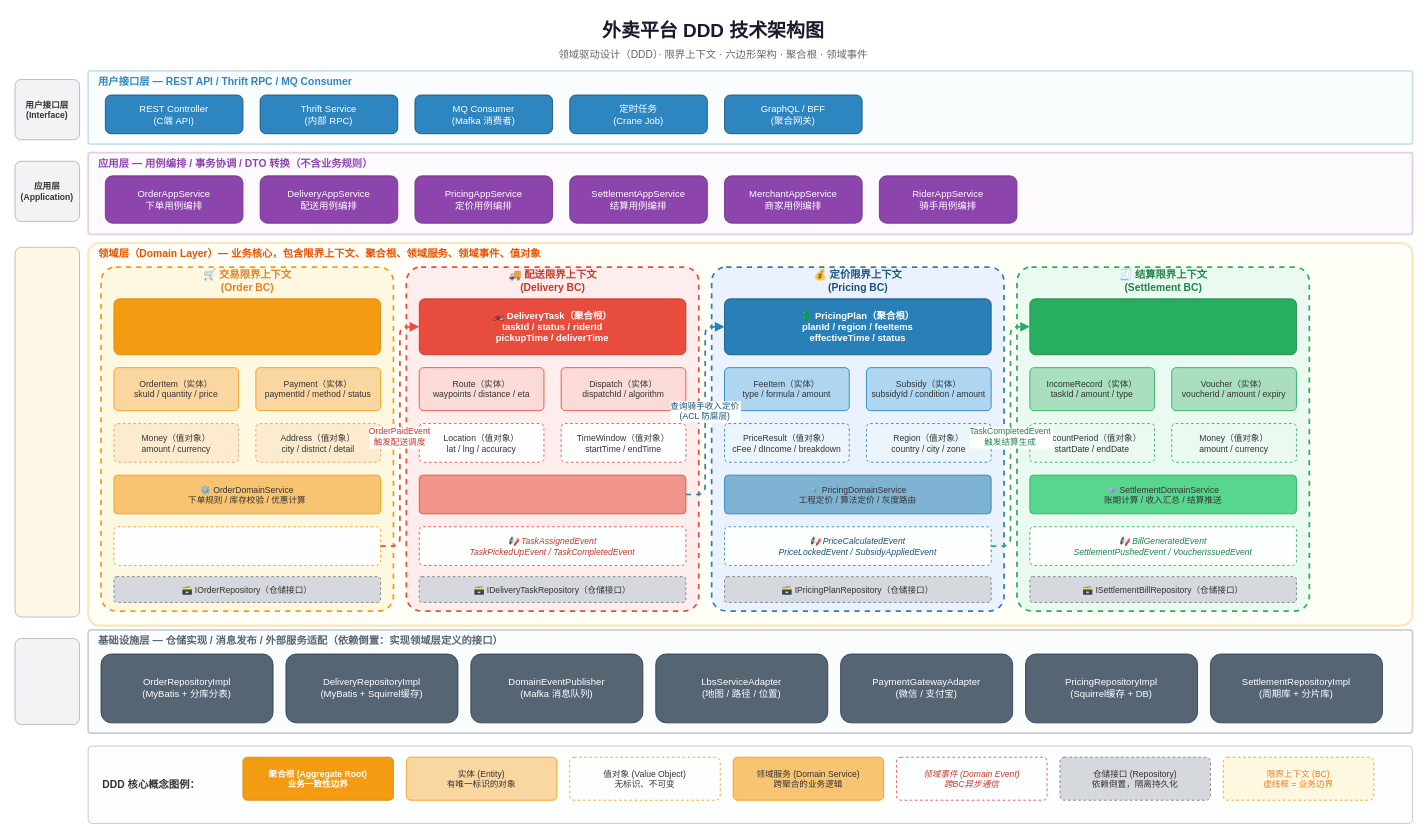
The diagram is 1428 pixels wide and 839 high, and some of its shapes have lost their labels. The centre of each missing label's shape, as x and y in pixels:
⚙️ DispatchDomainService 智能派单 / 路径规划 / 准时奖判责: (552,494)
基础设施层 (Infrastructure): (47,681)
领域层 (Domain): (47,431)
💵 SettlementBill（聚合根） billId / riderId / period totalIncome / status: (1162,326)
📢 OrderCreatedEvent OrderPaidEvent / OrderCancelledEvent: (247,545)
📦 Order（聚合根） orderId / status / items totalAmount / userId: (247,326)
